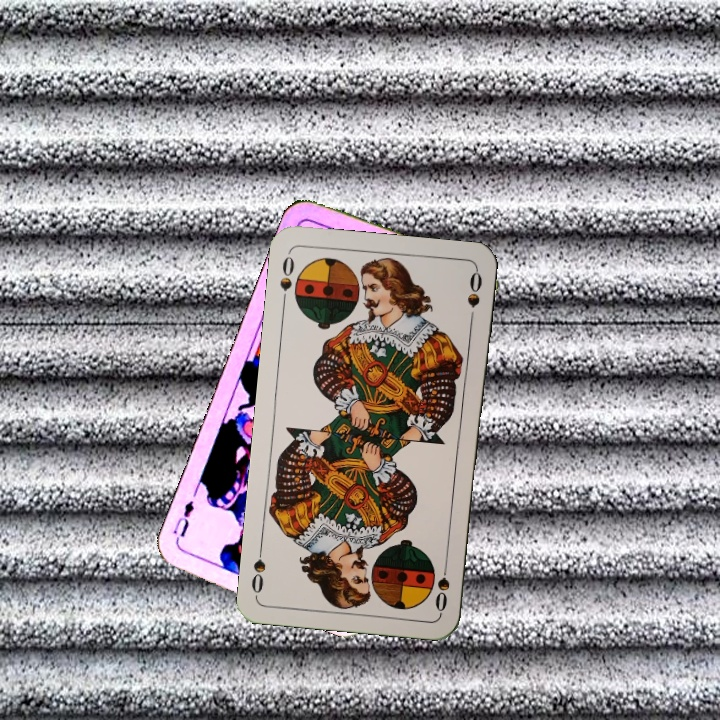SO: (431, 555, 453, 614), (276, 249, 297, 308)
